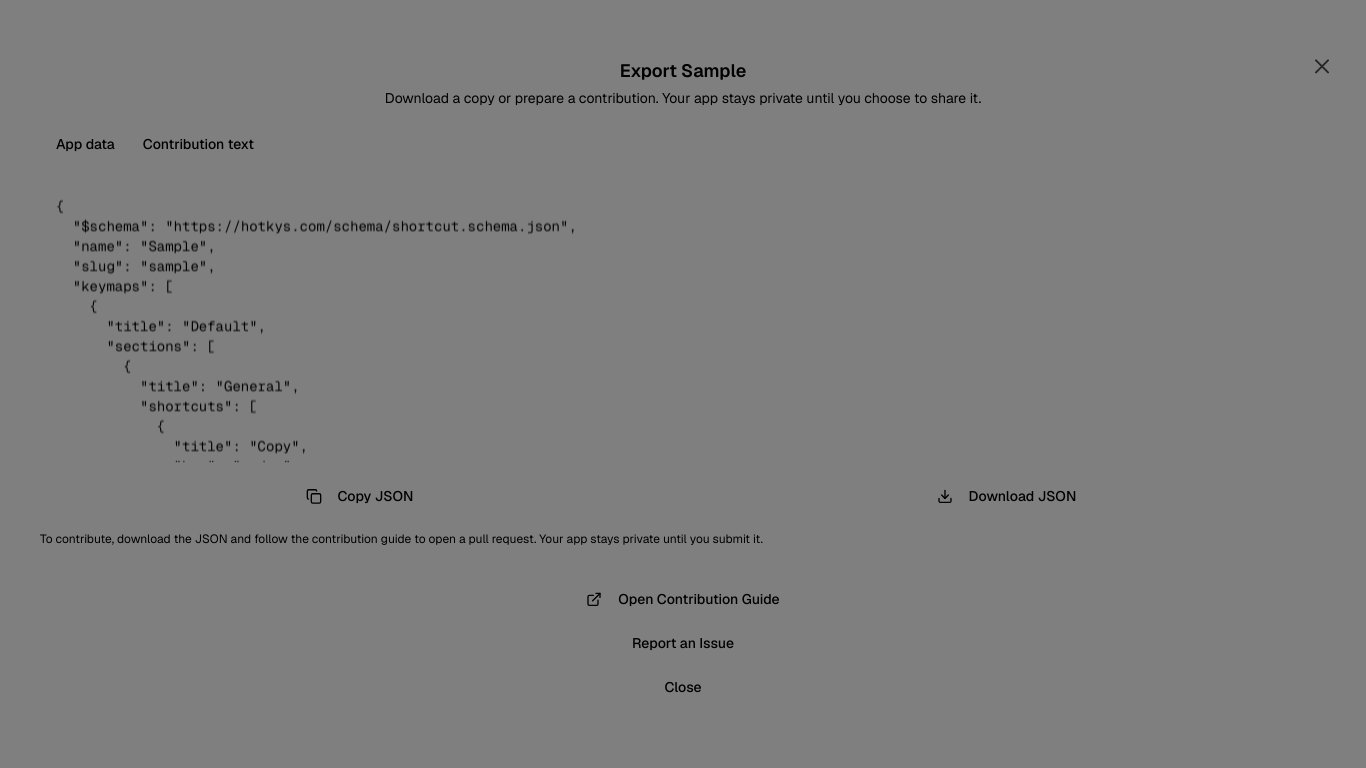
Test case: offers honest contribution links and a download fallback when clipboard access fails
This screenshot has width=1366, height=768.
What coordinates should you click on to do the following:
click the button "Copy JSON"
I would click on:
 (360, 496)
Its box is [40,478,679,514].
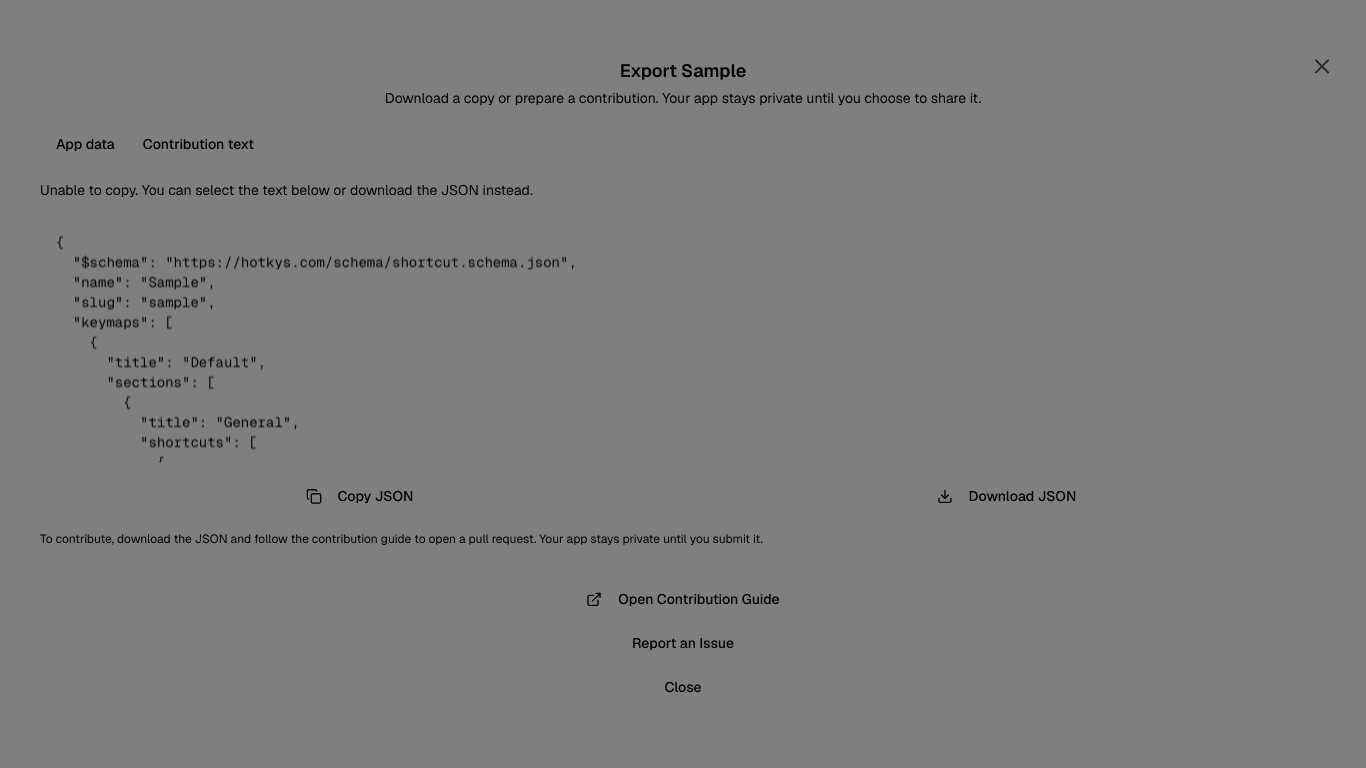
Check: the button "Download JSON" is shown, box [687,478,1326,514]
Check: the message shows "download the JSON", box [40,181,533,199]
